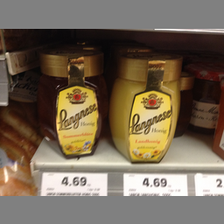honey: (111, 50, 180, 167), (39, 50, 109, 158)
